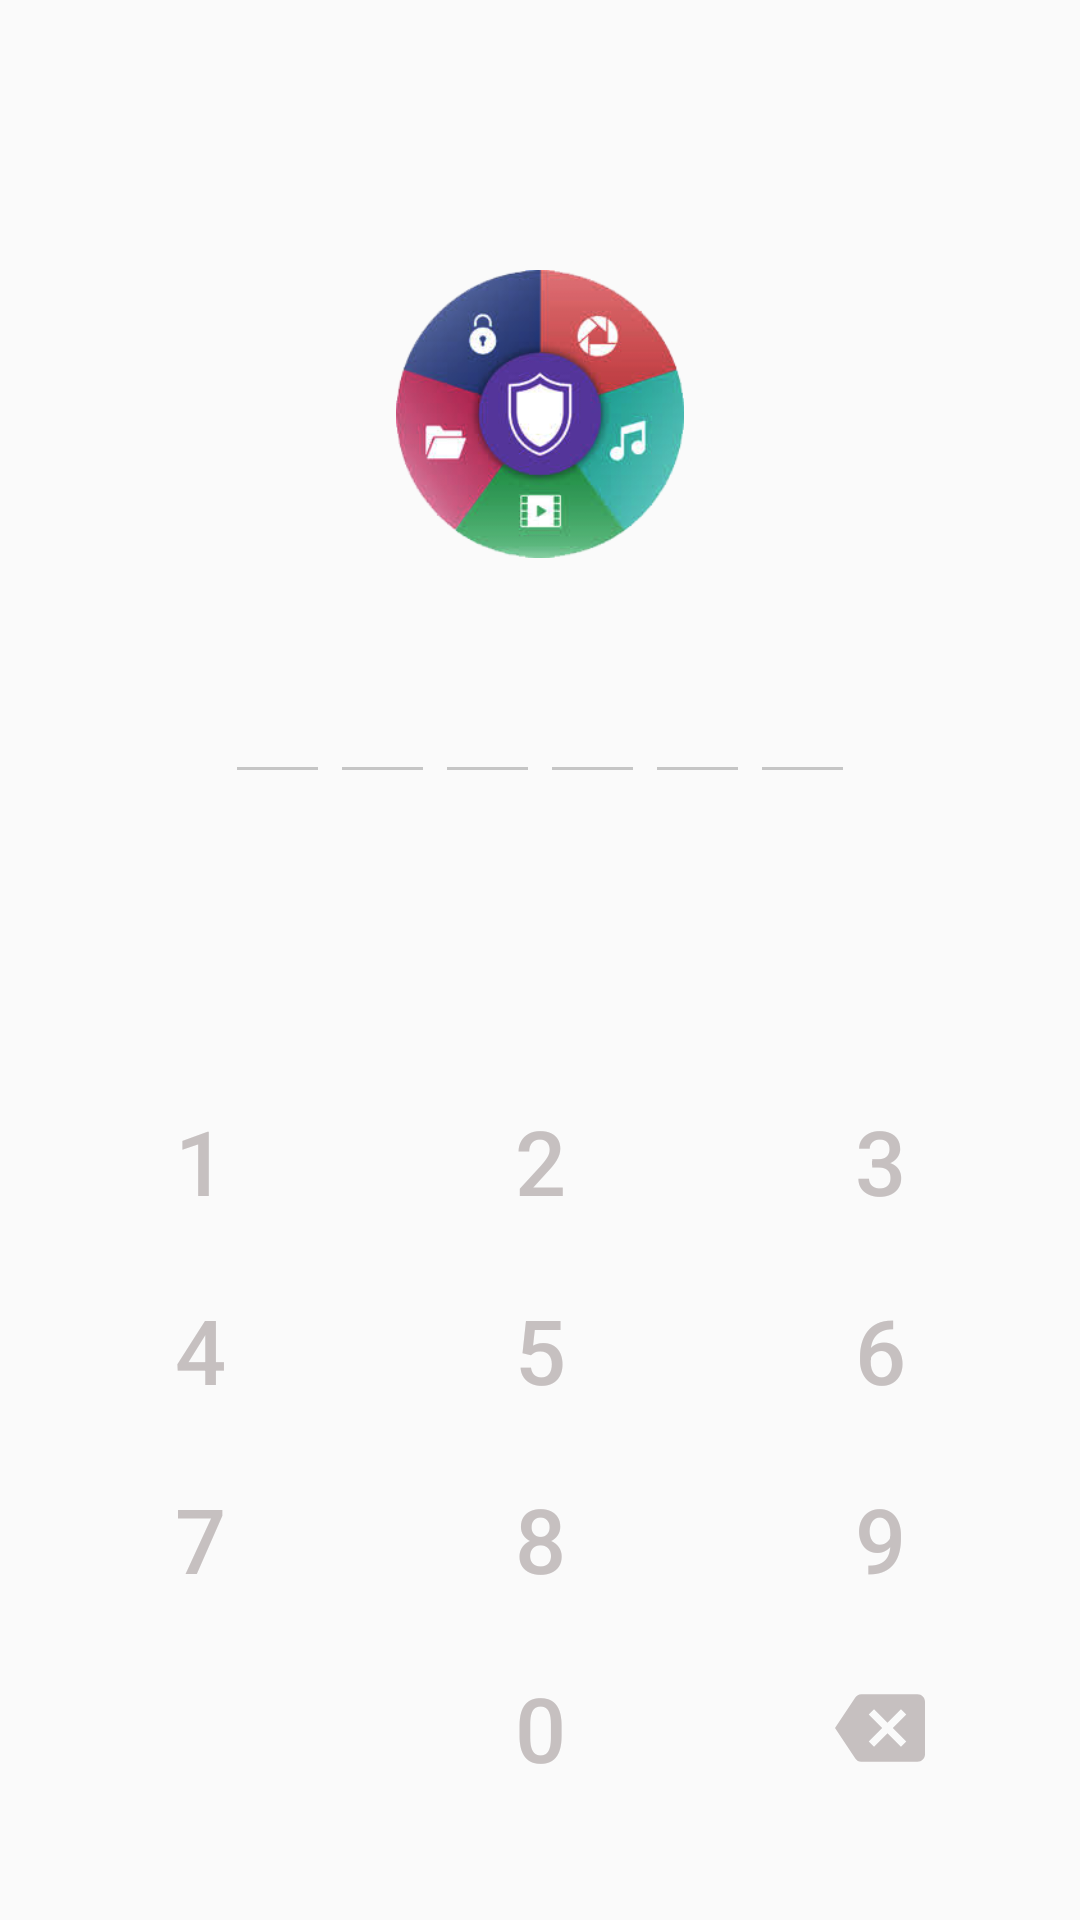

Point at icon controls on the screen. Image size 1080x1920, points as point (x, y).
backspace: point (880, 1728)
